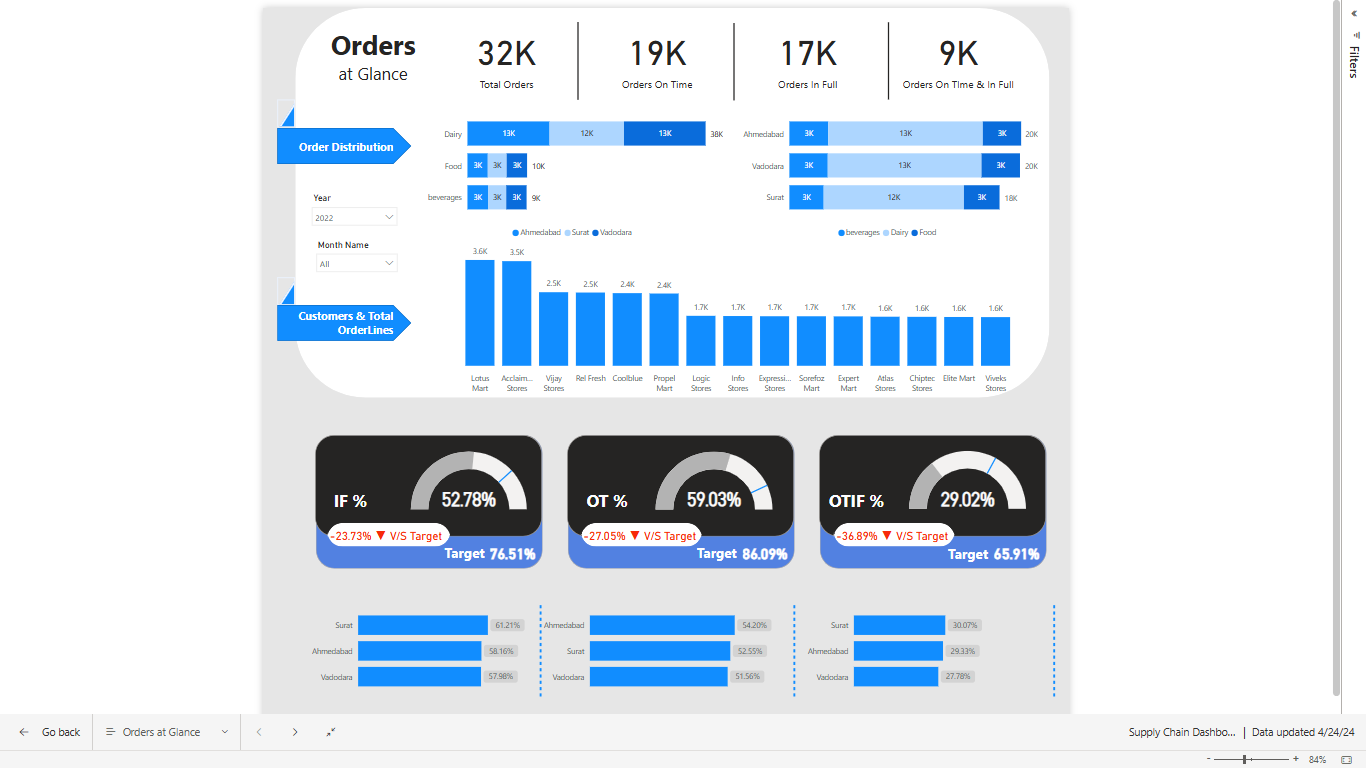

The page's visual inventory and layout, read from the dashboard file:
{"tool":"powerbi","page":{"name":"Orders at Glance","canvas":[1280,1150],"ordinal":0},"visuals":[{"type":"shape","box":[51.4,0,1197.1,618.6],"z":0},{"type":"barChart","fields":{"Category":["dim_customers.city"],"Y":["fact_orders_aggregate.IF%"]},"box":[435,935,428.3,165],"z":1000},{"type":"barChart","fields":{"Category":["dim_customers.city"],"Y":["fact_orders_aggregate.OTIF%"]},"box":[853.3,935,426.7,165],"z":2000},{"type":"barChart","fields":{"Category":["dim_customers.city"],"Y":["fact_orders_aggregate.OT%"]},"box":[66.7,935,425,165],"z":3000},{"type":"columnChart","fields":{"Category":["dim_customers.customer_name"],"Y":["fact_orders_aggregate.Total Orders"]},"box":[285,361.7,925,256.7],"z":4000},{"type":"slicer","fields":{"Values":["dim_date.date.Variation.Date Hierarchy.Year"]},"box":[67.1,288.6,157.1,58.6],"z":5000},{"type":"slicer","fields":{"Values":["dim_date.Month Name"]},"box":[74.3,361.4,150,58.6],"z":6000},{"type":"textbox","box":[40,22.9,268.6,122.9],"z":7000},{"type":"barChart","fields":{"Category":["dim_products.category"],"Y":["fact_order_lines.Total Order Lines"],"Series":["dim_customers.city"]},"box":[251.7,146.7,483.3,228.3],"z":8000},{"type":"barChart","fields":{"Category":["dim_customers.city"],"Y":["fact_order_lines.Total Order Lines"],"Series":["dim_products.category"]},"box":[751.7,146.7,483.3,228.3],"z":9000},{"type":"cardVisual","fields":{"Data":["dim_targets_orders.Gauge Infull Target","dim_targets_orders.Gauge OnTime Target","dim_targets_orders.Gauge OTIF Target"]},"box":[78.8,672.9,1170,222.9],"z":10000},{"type":"cardVisual","fields":{"Data":["dim_targets_orders.Gauge Infull Target","dim_targets_orders.Gauge OnTime Target","dim_targets_orders.Gauge OTIF Target"]},"box":[77.4,672.9,1170,171.4],"z":11000},{"type":"gauge","title":"OT %","fields":{"Y":["fact_orders_aggregate.OT%"],"TargetValue":["dim_targets_orders.Gauge OnTime Target"]},"box":[591.2,698.8,248,102.9],"z":12000},{"type":"gauge","title":"OTIF %","fields":{"Y":["fact_orders_aggregate.OTIF%"],"TargetValue":["dim_targets_orders.Gauge OTIF Target"]},"box":[994,697.4,248,102.9],"z":13000},{"type":"gauge","title":"IF %","fields":{"Y":["fact_orders_aggregate.IF%"],"TargetValue":["dim_targets_orders.Gauge Infull Target"]},"box":[202.6,698.8,248,102],"z":14000},{"type":"cardVisual","fields":{"Data":["dim_targets_orders.IF KPI format"]},"box":[96.7,812,206.7,48.3],"z":15000},{"type":"cardVisual","fields":{"Data":["dim_targets_orders.OT KPI format"]},"box":[498.3,812,203.3,48.3],"z":16000},{"type":"cardVisual","fields":{"Data":["dim_targets_orders.OTIF KPI format"]},"box":[900,812,203.3,48.3],"z":17000},{"type":"textbox","box":[89.8,757.4,98.6,54.3],"z":18000},{"type":"textbox","box":[508.3,757.4,101.4,54.3],"z":19000},{"type":"textbox","box":[892.6,757.4,120,54.3],"z":20000},{"type":"cardVisual","fields":{"Data":["fact_orders_aggregate.Total Orders","Sum(fact_orders_aggregate.on_time)","Sum(fact_orders_aggregate.in_full)","Sum(fact_orders_aggregate.otif)"]},"box":[251.4,22.9,970,124.3],"z":21000},{"type":"shape","box":[22.9,145.7,28.6,44.3],"z":22000},{"type":"shape","box":[22.9,190,212.9,57.1],"z":23000},{"type":"shape","box":[22.9,427.1,28.6,44.3],"z":24000},{"type":"shape","box":[22.9,471.4,212.9,57],"z":25000},{"type":"shape","box":[350,22.9,300,122.9],"z":26000},{"type":"shape","box":[597.1,24.3,300,122.9],"z":27000},{"type":"shape","box":[842.9,22.9,300,122.9],"z":28000},{"type":"textbox","box":[278.6,844.3,82.9,51.4],"z":29000},{"type":"textbox","box":[677.1,844.3,85.7,51.4],"z":30000},{"type":"textbox","box":[1066.7,845,105,50],"z":31000}]}

Visuals, with their boxes on the page's 1280x1150 design canvas (x1, y1, x2, y2). These are canvas units, not pixel positions in the 1366x768 screenshot, which may show the page scaled, cropped or inside an application window:
shape: 51,0,1248,619
barChart - dim_customers.city x fact_orders_aggregate.IF%: 435,935,863,1100
barChart - dim_customers.city x fact_orders_aggregate.OTIF%: 853,935,1280,1100
barChart - dim_customers.city x fact_orders_aggregate.OT%: 67,935,492,1100
columnChart - dim_customers.customer_name x fact_orders_aggregate.Total Orders: 285,362,1210,618
slicer - dim_date.date.Variation.Date Hierarchy.Year: 67,289,224,347
slicer - dim_date.Month Name: 74,361,224,420
textbox: 40,23,309,146
barChart - dim_products.category x fact_order_lines.Total Order Lines: 252,147,735,375
barChart - dim_customers.city x fact_order_lines.Total Order Lines: 752,147,1235,375
cardVisual - dim_targets_orders.Gauge Infull Target x dim_targets_orders.Gauge OnTime Target: 79,673,1249,896
cardVisual - dim_targets_orders.Gauge Infull Target x dim_targets_orders.Gauge OnTime Target: 77,673,1247,844
"OT %" gauge: 591,699,839,802
"OTIF %" gauge: 994,697,1242,800
"IF %" gauge: 203,699,451,801
cardVisual - dim_targets_orders.IF KPI format: 97,812,303,860
cardVisual - dim_targets_orders.OT KPI format: 498,812,702,860
cardVisual - dim_targets_orders.OTIF KPI format: 900,812,1103,860
textbox: 90,757,188,812
textbox: 508,757,610,812
textbox: 893,757,1013,812
cardVisual - fact_orders_aggregate.Total Orders x Sum(fact_orders_aggregate.on_time): 251,23,1221,147
shape: 23,146,52,190
shape: 23,190,236,247
shape: 23,427,52,471
shape: 23,471,236,528
shape: 350,23,650,146
shape: 597,24,897,147
shape: 843,23,1143,146
textbox: 279,844,362,896
textbox: 677,844,763,896
textbox: 1067,845,1172,895
